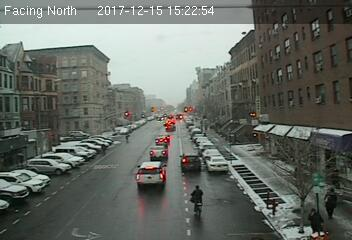bicycle: (190, 184, 206, 220)
car: (135, 161, 167, 187), (179, 153, 200, 172), (205, 156, 227, 172), (149, 146, 167, 160), (154, 136, 169, 146)
